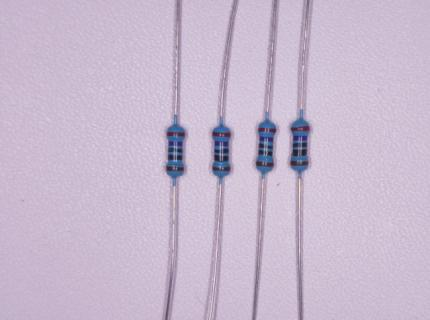Black band: (168, 154, 183, 161), (214, 155, 229, 162), (293, 149, 307, 156), (259, 143, 273, 149), (259, 150, 272, 156), (293, 143, 308, 148), (168, 148, 182, 153), (214, 149, 229, 153)
Brown band: (291, 160, 310, 166), (212, 166, 231, 172), (166, 166, 185, 172), (256, 161, 274, 167)
Red band: (166, 131, 185, 137), (212, 131, 231, 137), (258, 127, 276, 133), (291, 126, 311, 131)
Violet band: (259, 136, 273, 142), (214, 141, 229, 146), (168, 141, 183, 146), (293, 136, 307, 141)
